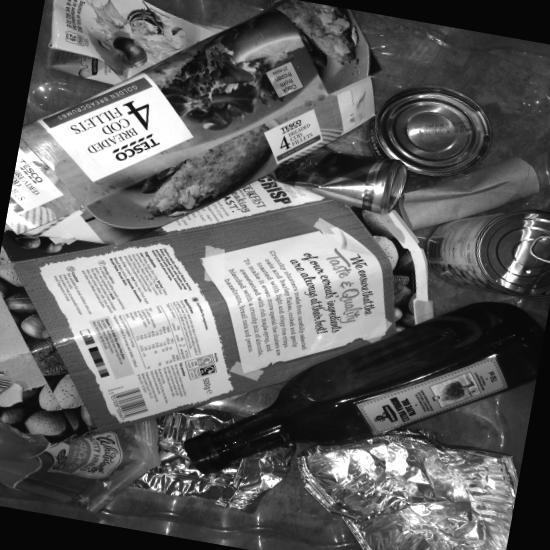Aluminium foil: (294, 427, 518, 550), (126, 407, 296, 513)
Drink can: (265, 145, 407, 214)
Drink carton: (45, 0, 223, 85)
Food Can: (366, 85, 491, 180), (426, 208, 550, 300)
Other carton: (0, 175, 434, 443), (5, 0, 381, 245)
Other plastic container: (184, 302, 544, 474)
Plastic bottle cap: (183, 436, 219, 474)
Plastic film: (0, 418, 161, 515)
Pop tab: (529, 235, 550, 253), (529, 251, 550, 263)
Toilet tube: (398, 155, 540, 231)
